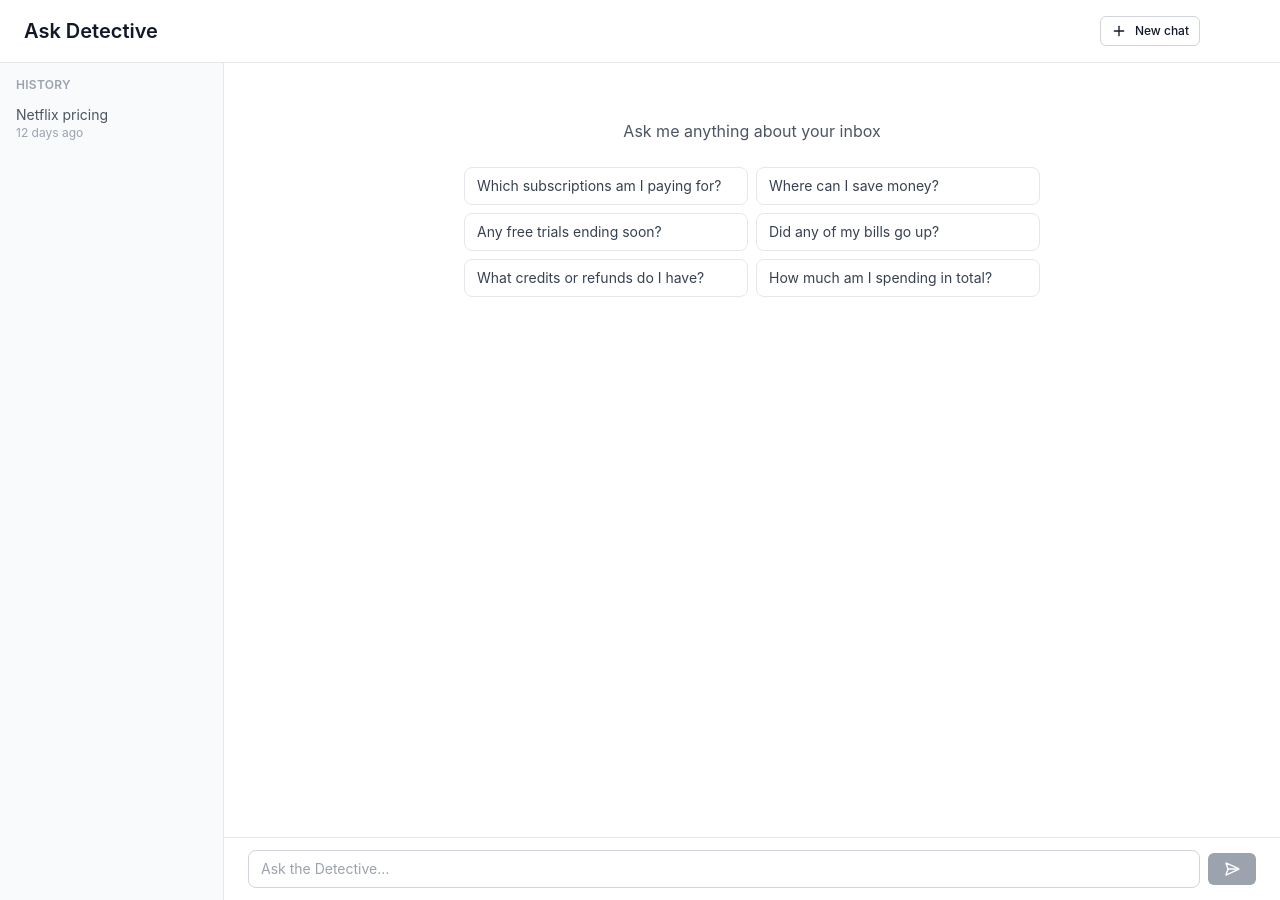
ChatPage — conversation history (Pro) › shows a toast and leaves the transcript untouched when loading a conversation fails
Click the button with test id "chat-history-item" at [112, 123], box [8,99,215,147]
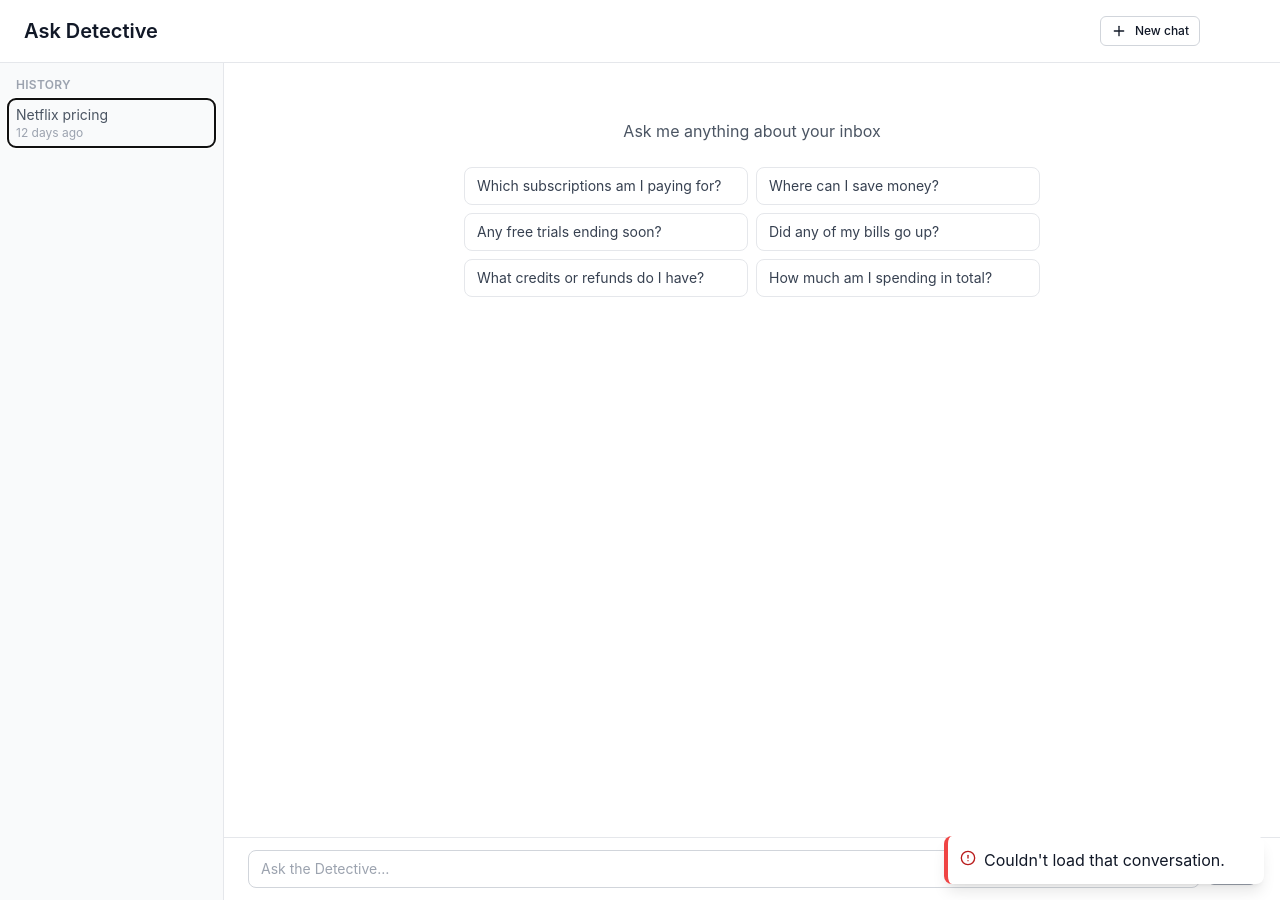
Now the text "Couldn't load that conversation." is shown, box [984,848,1225,872]
